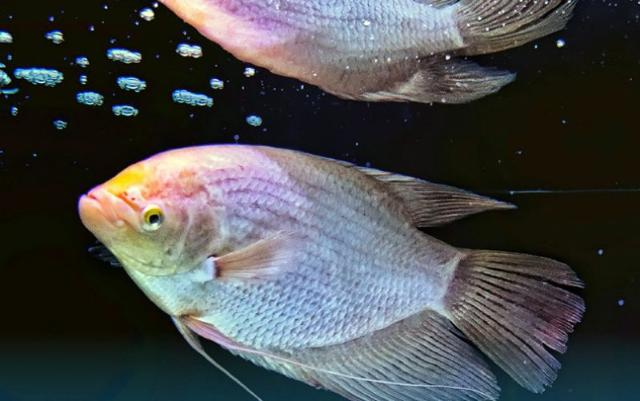Mulut: (56, 160, 128, 256)
Sirip Anal: (213, 304, 507, 401)
Sirip Dada: (180, 221, 314, 303)
Sirip Perut: (161, 302, 498, 401)
Sirip Punggung: (433, 235, 595, 401), (309, 142, 541, 239), (306, 43, 530, 131)
